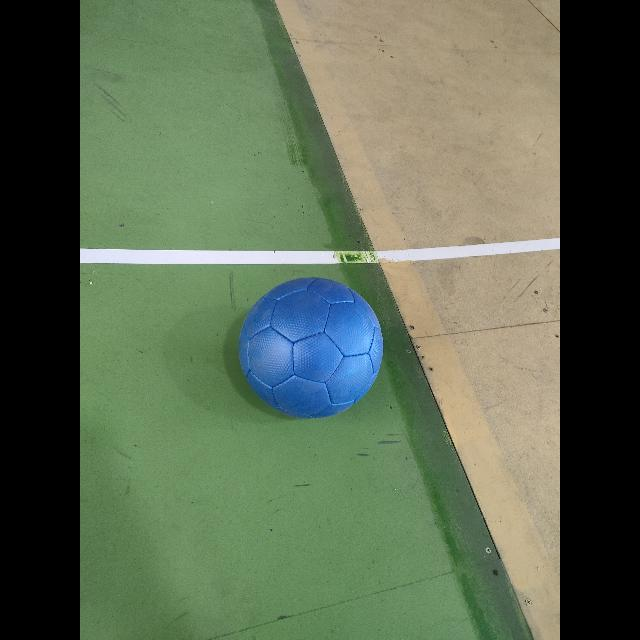B: (238, 276, 384, 418)
